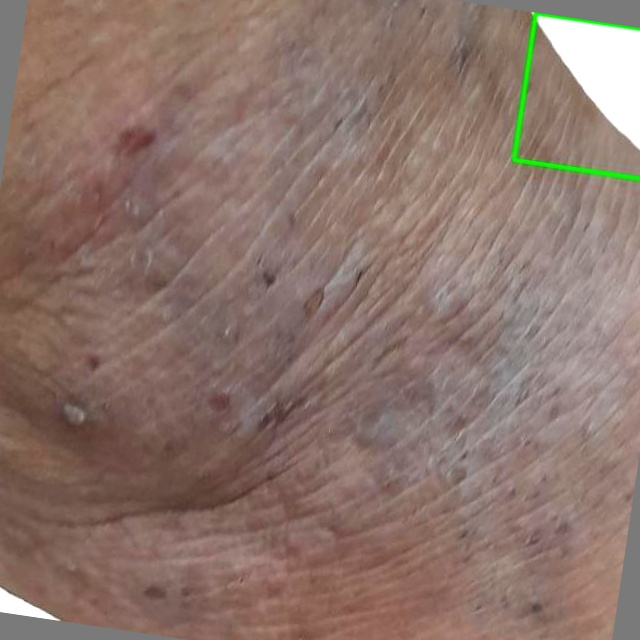Contact Dermatitis: (514, 13, 639, 178)
